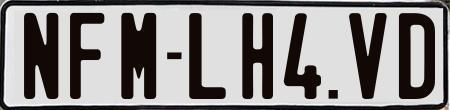4: (284, 13, 325, 105)
D: (397, 11, 435, 100)
F: (68, 13, 104, 102)
H: (240, 10, 277, 96)
L: (188, 12, 229, 103)
M: (121, 11, 156, 100)
N: (22, 12, 60, 99)
V: (347, 11, 388, 102)
